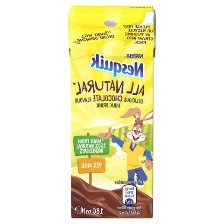carton: (66, 1, 159, 221)
